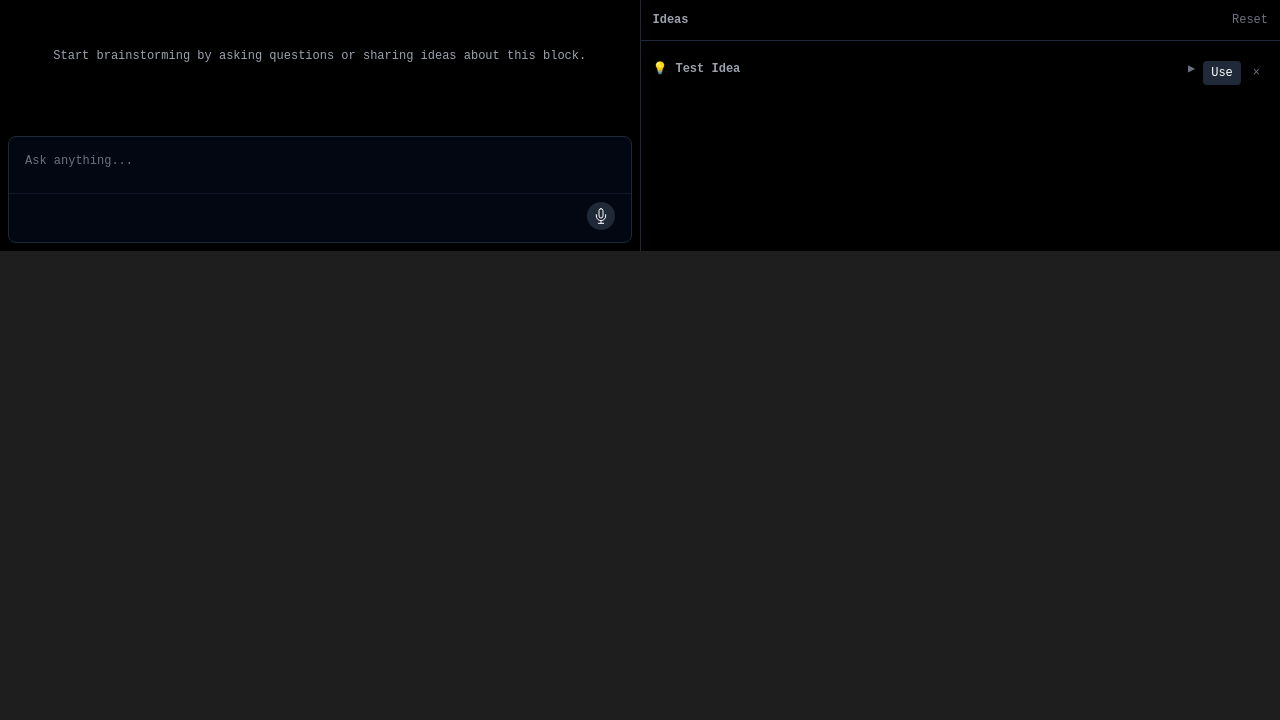
BrainstormTab › should show blend/replace dialog when using idea with existing content
The width and height of the screenshot is (1280, 720).
Click the button "Use". click: [1222, 73]
box: [1203,61,1241,85]
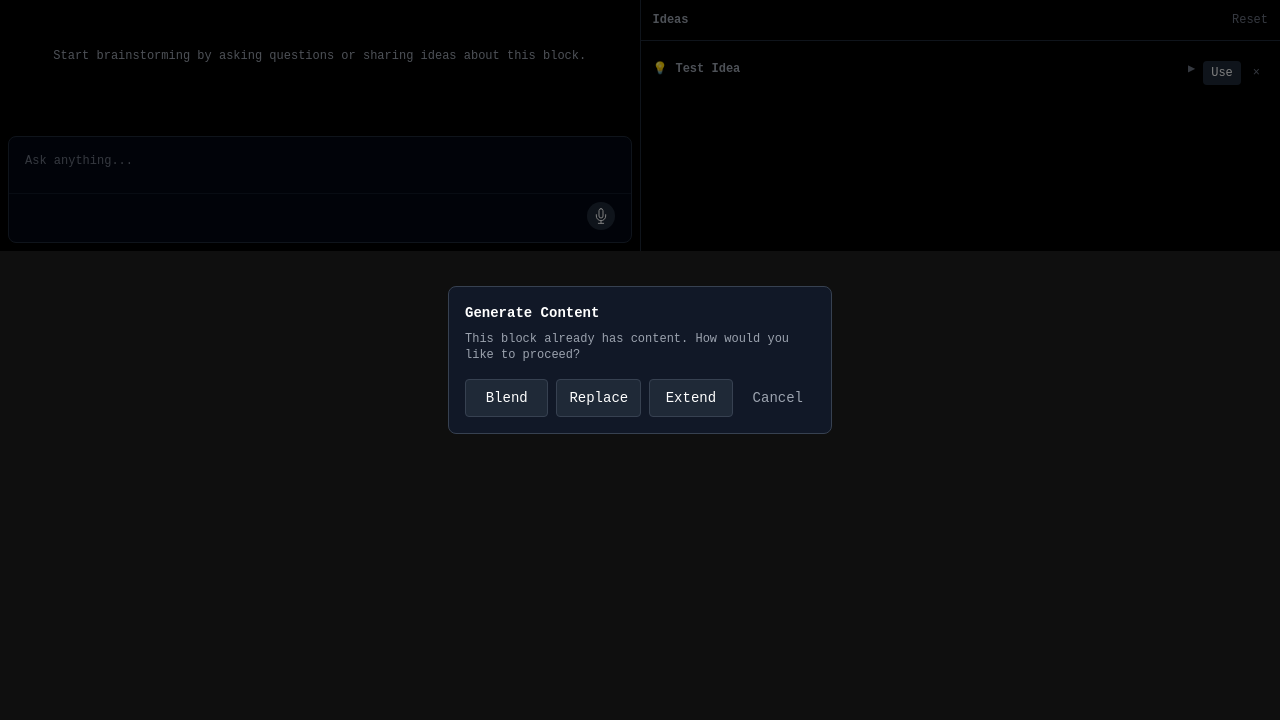
Expected: the heading "Generate Content" is shown, [465,305,599,321]
Expected: the button "Blend" is shown, [465,379,548,417]
Expected: the button "Replace" is shown, [556,379,641,417]
